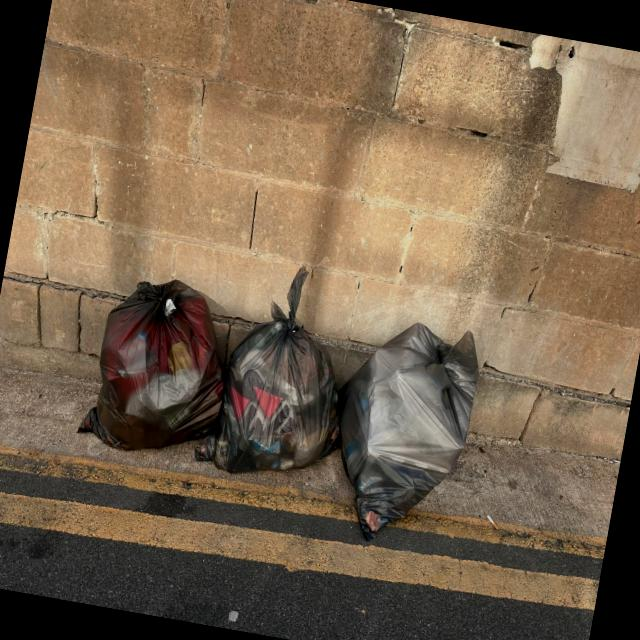black_bag: (318, 304, 489, 550), (206, 252, 360, 490), (71, 260, 241, 466)
